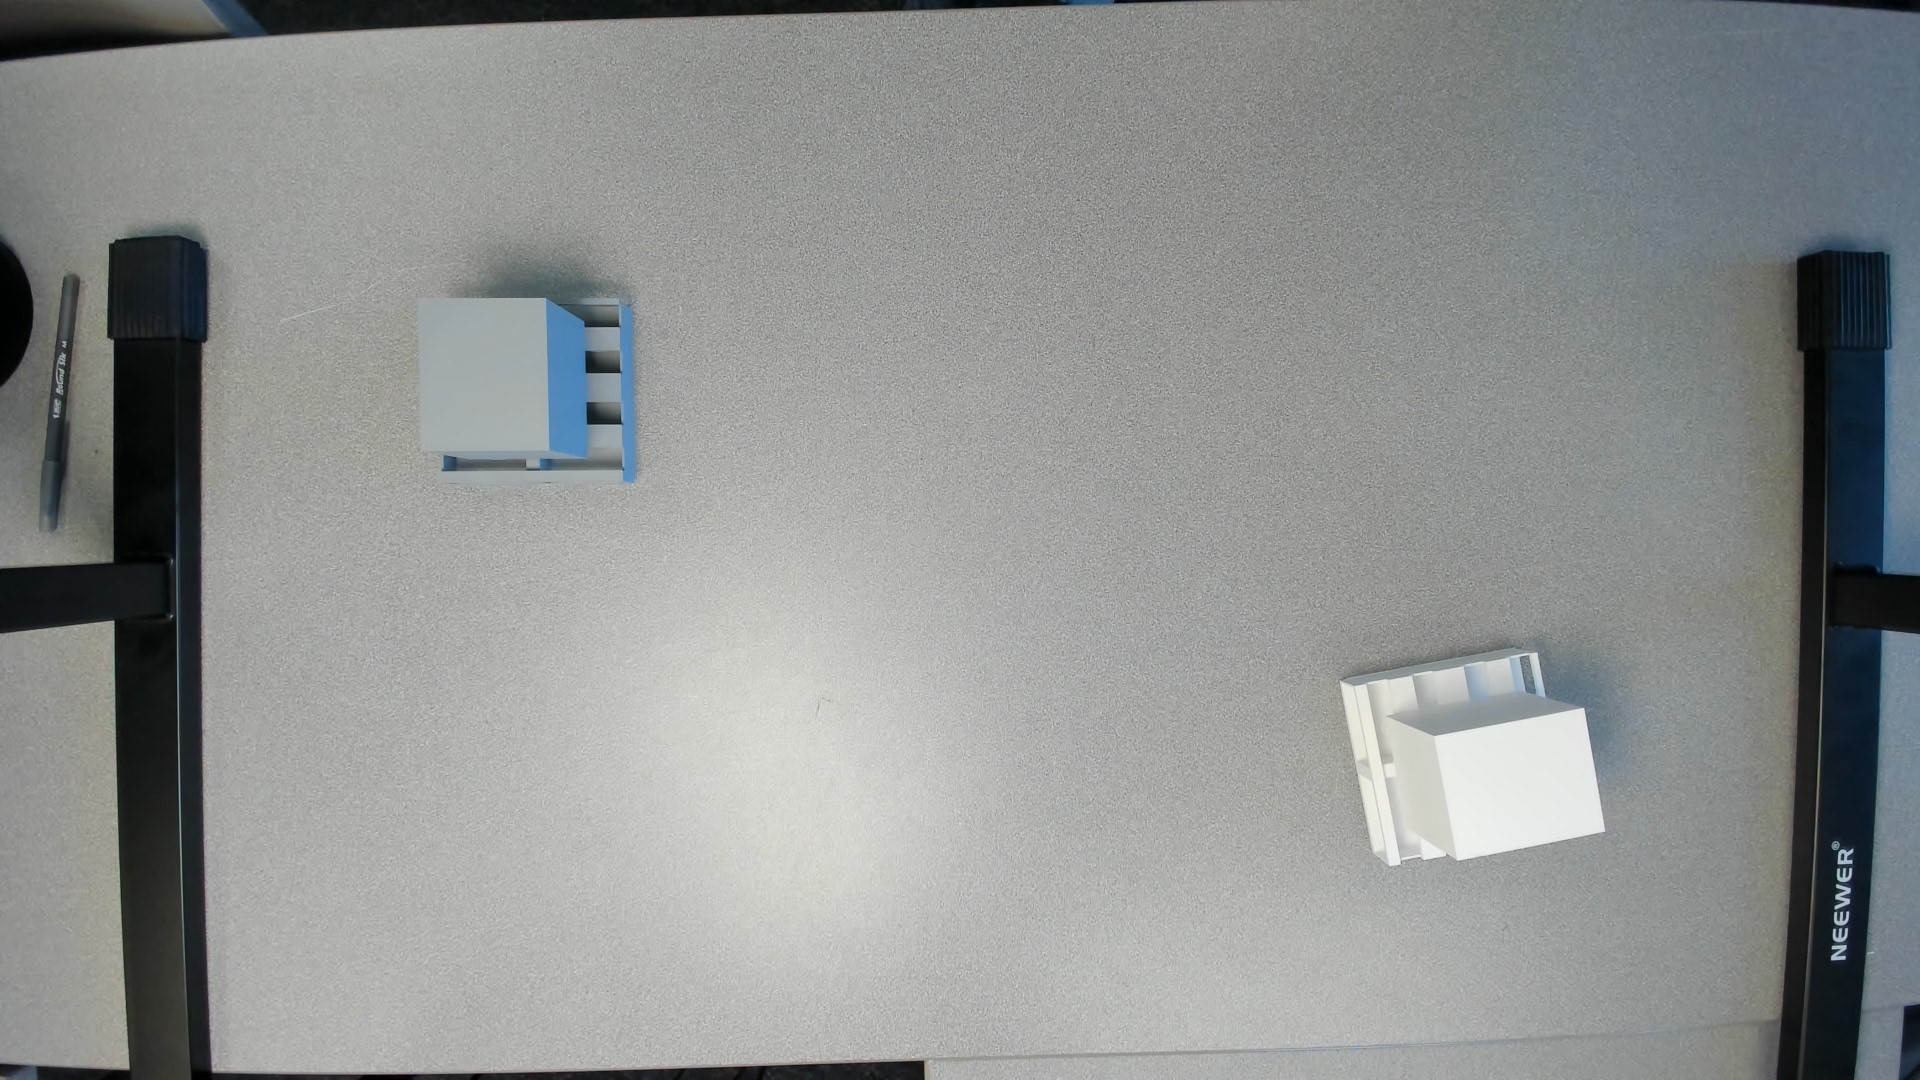grey pallet: (407, 289, 650, 498)
white pallet: (1335, 638, 1622, 884)
